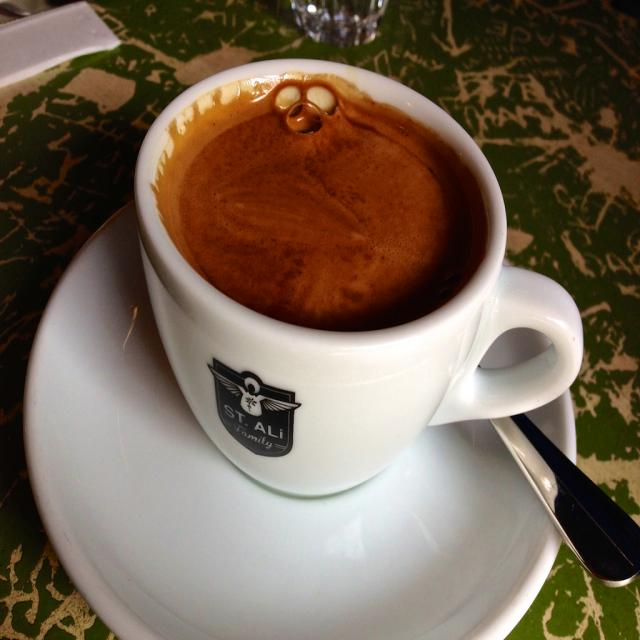Coffee: (135, 52, 490, 404)
